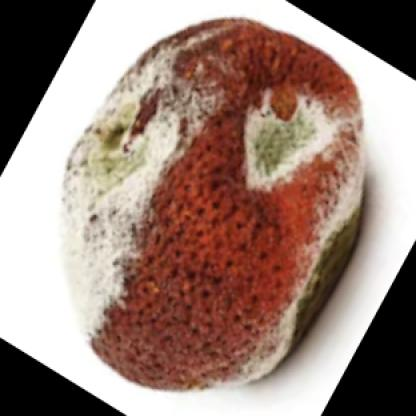rotten: (63, 18, 367, 388)
